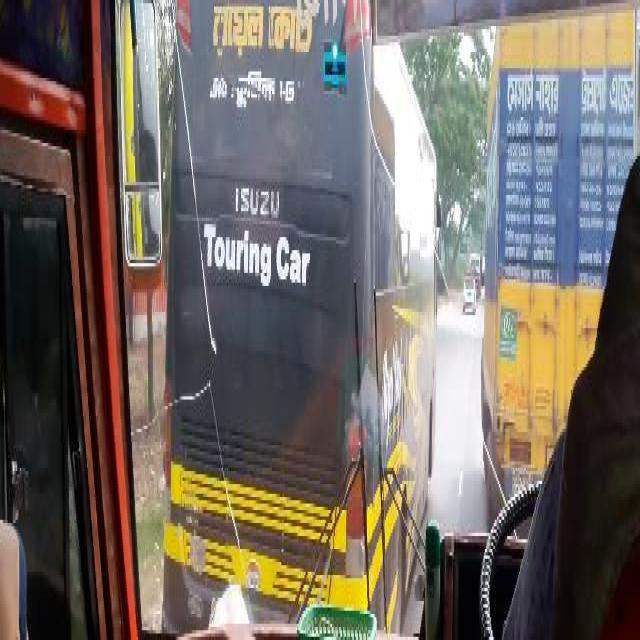vehicle: (164, 8, 432, 635), (483, 31, 636, 515), (464, 276, 476, 308)
